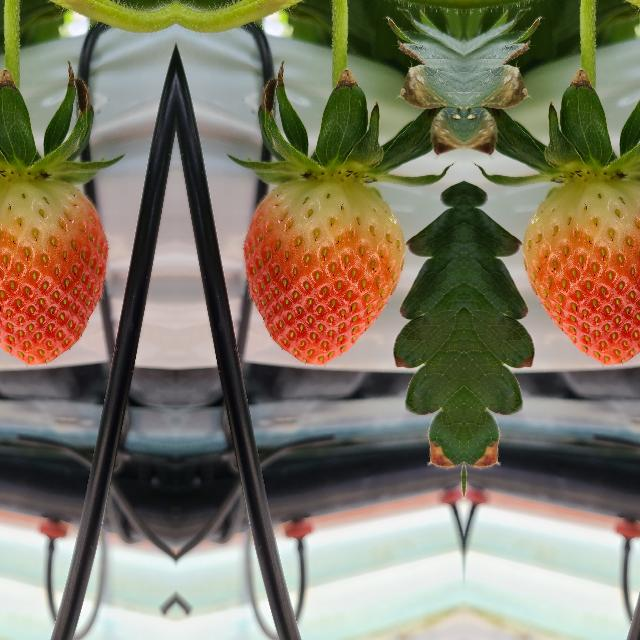Health_75: (242, 180, 403, 364), (522, 180, 640, 364), (0, 180, 107, 364)
